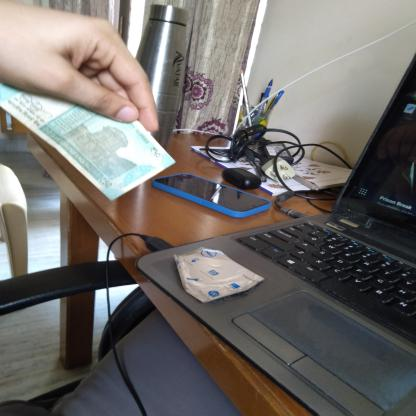New50Back: (1, 59, 157, 193)
